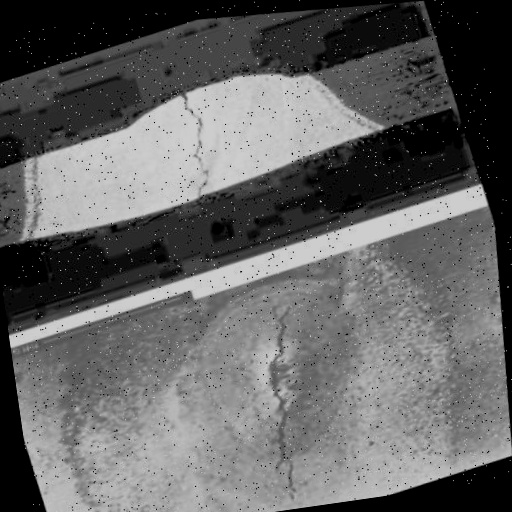crack: (217, 285, 358, 509), (160, 82, 232, 198)
